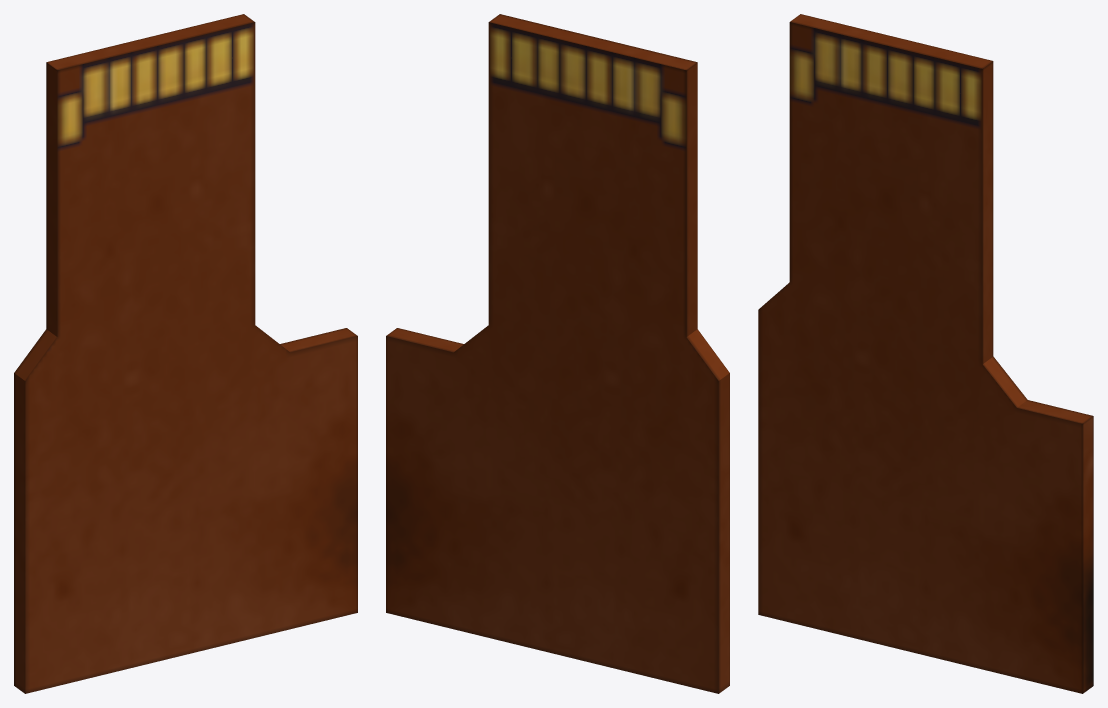
The model's file is BlankKey.fbx.
3 views of the same model, side by side, from view 1: azimuth 30°, elevation 25°; view 2: azimuth 150°, elevation 25°; view 3: azimuth 330°, elevation 25° (orthographic). The views are drawn at different scales.
Visible parts, largest first — view 1: Keycard_Blank; view 2: Keycard_Blank; view 3: Keycard_Blank.
Boxes of the visible parts, x1,y1,x2,y2 form: Keycard_Blank: [14, 14, 357, 693]; Keycard_Blank: [386, 14, 729, 693]; Keycard_Blank: [758, 14, 1093, 693].
Bounding box in the file's own units: 5.16 × 9.13 × 0.3.
Materials: 1 (1 with a texture image).
